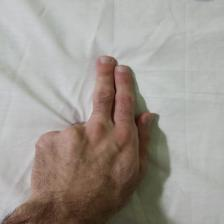three: (38, 50, 160, 199)
